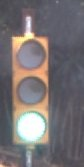Green: (10, 24, 61, 147)
